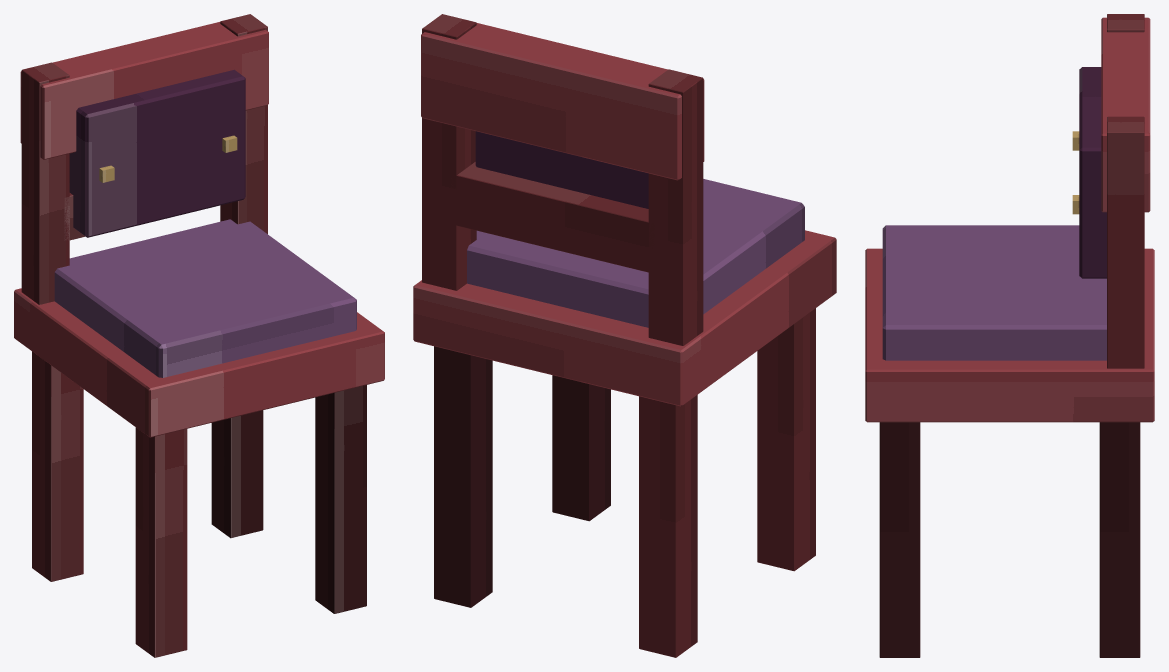
Rendered from wooden_chair_cushion_mahogany.glb.
3 views of the same model, side by side, from view 1: azimuth 30°, elevation 25°; view 2: azimuth 150°, elevation 25°; view 3: azimuth 270°, elevation 25° (orthographic). The views are drawn at different scales.
Visible parts, largest first — view 1: SeatCushion, BackCushion, ChairSeat, BackTop, ChairLeg_1, ChairLeg_2, ChairLeg_3, BackPost_L, ChairLeg_4, BackPost_R; view 2: ChairSeat, BackTop, SeatCushion, ChairLeg_3, ChairLeg_4, ChairLeg_1, BackRail, BackPost_L, BackPost_R, ChairLeg_2, BackCushion; view 3: SeatCushion, ChairSeat, ChairLeg_2, ChairLeg_4, BackPost_R, BackTop, BackCushion, BackPost_L.
Part boxes in pixels (x1,y1,x2,y2): SeatCushion: [54, 219, 356, 377]; BackCushion: [69, 69, 245, 237]; ChairSeat: [14, 288, 384, 437]; BackTop: [20, 22, 268, 159]; ChairLeg_1: [135, 427, 187, 657]; ChairLeg_2: [315, 385, 366, 613]; ChairLeg_3: [32, 351, 83, 581]; BackPost_L: [21, 62, 69, 304]; ChairLeg_4: [211, 410, 263, 538]; BackPost_R: [220, 14, 267, 233]; ChairSeat: [413, 230, 836, 406]; BackTop: [421, 23, 704, 180]; SeatCushion: [467, 179, 804, 327]; ChairLeg_3: [639, 395, 697, 657]; ChairLeg_4: [434, 346, 492, 607]; ChairLeg_1: [757, 308, 815, 571]; BackRail: [450, 162, 654, 272]; BackPost_L: [648, 69, 703, 345]; BackPost_R: [422, 14, 476, 290]; ChairLeg_2: [552, 375, 610, 521]; BackCushion: [475, 131, 648, 208]; SeatCushion: [882, 225, 1106, 360]; ChairSeat: [865, 248, 1154, 422]; ChairLeg_2: [879, 422, 920, 657]; ChairLeg_4: [1099, 422, 1140, 657]; BackPost_R: [1107, 116, 1144, 368]; BackTop: [1101, 17, 1150, 212]; BackCushion: [1079, 67, 1106, 278]; BackPost_L: [1107, 14, 1144, 32].
Bounding box in the file's own units: 0.5 × 1.01 × 0.5.
1 material, 1 textured.
